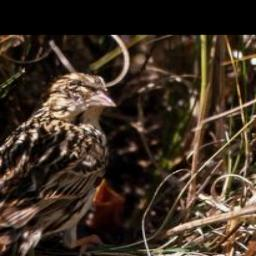Sparrow: (0, 71, 120, 256)
